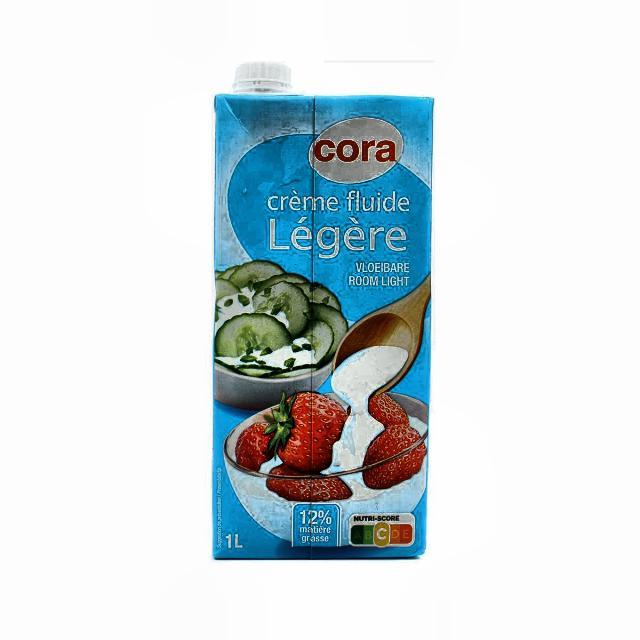cardboard: (211, 90, 433, 560)
